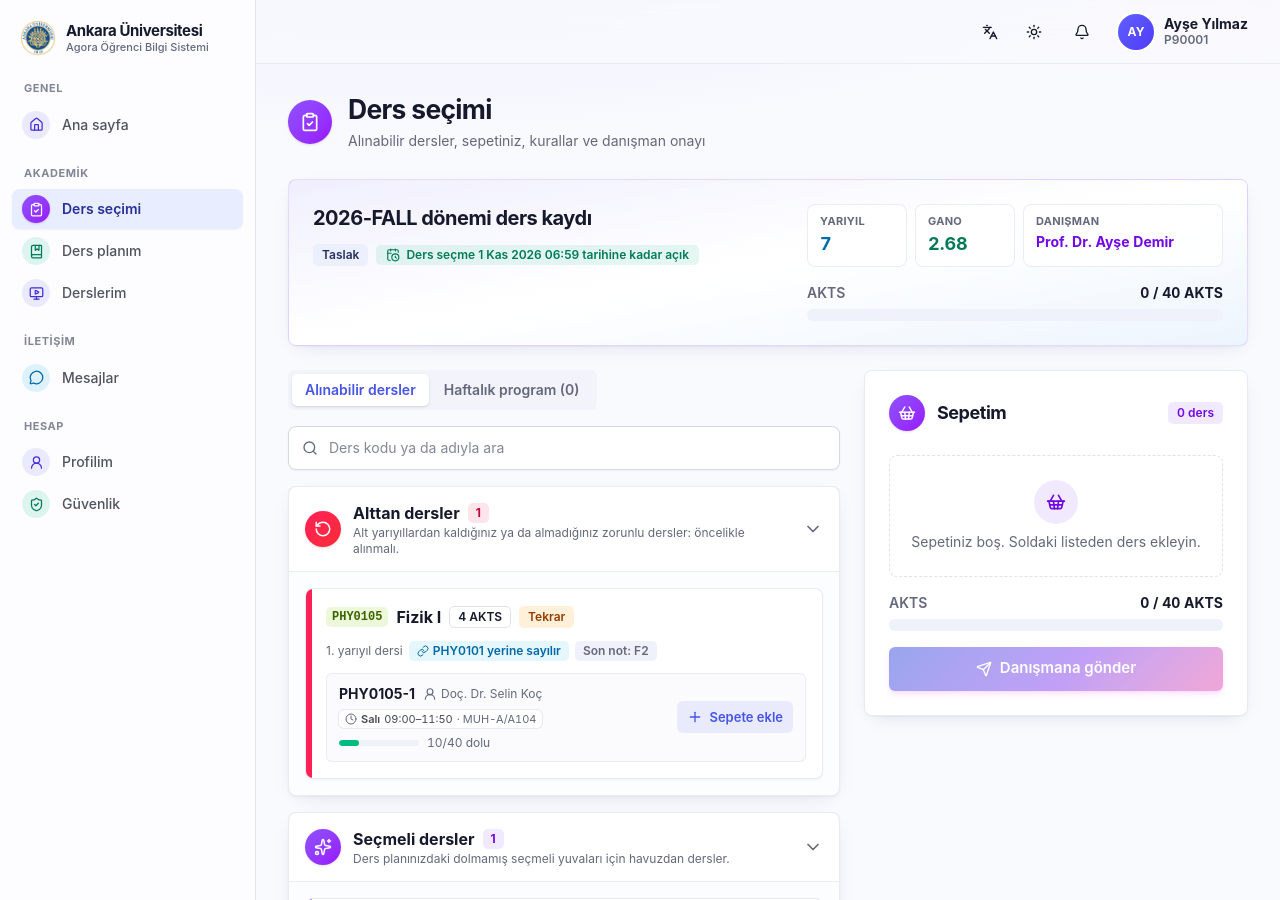
Test: ders seçimi › alınabilir dersleri kategorilerle gösterir; ders eklenir, kurallar ve AKTS güncellenir
Expected: the heading "2026-FALL dönemi ders kaydı" is shown, [313, 206, 592, 230]
Expected: the text "PHY0101 yerine sayılır" is shown, [409, 641, 569, 661]
What coordinates should you click on to do the following:
click the button named "PHY0105-1: Sepete ekle"
I would click on:
 (735, 717)
Its box is [678, 701, 793, 733].
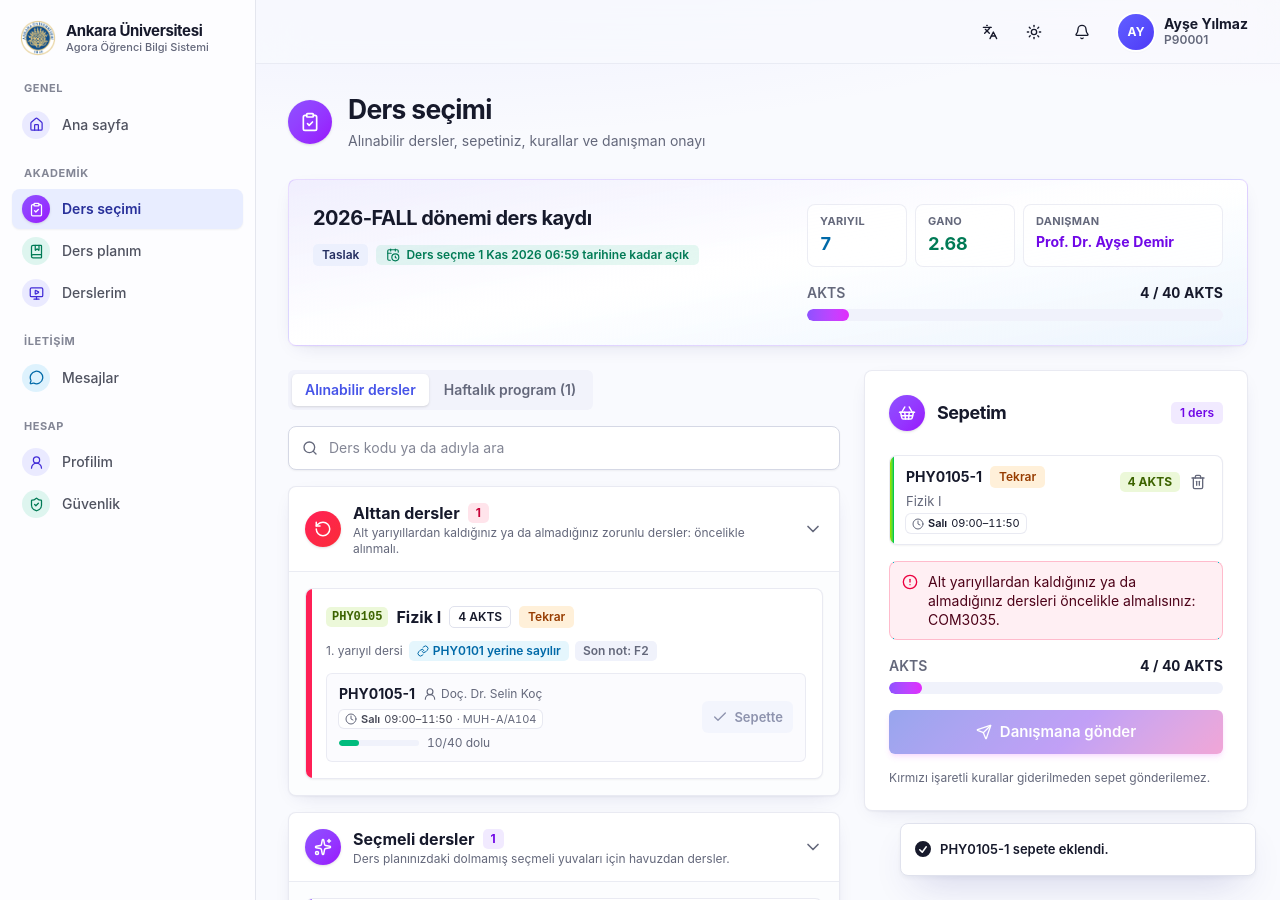
Expected: the button "Danışmana gönder" is disabled, [889, 710, 1223, 754]
Expected: the 1st text "PHY0105-1" is shown, [906, 467, 982, 487]
Expected: the text "öncelikle almalısınız: COM3035" is shown, [928, 573, 1196, 628]
